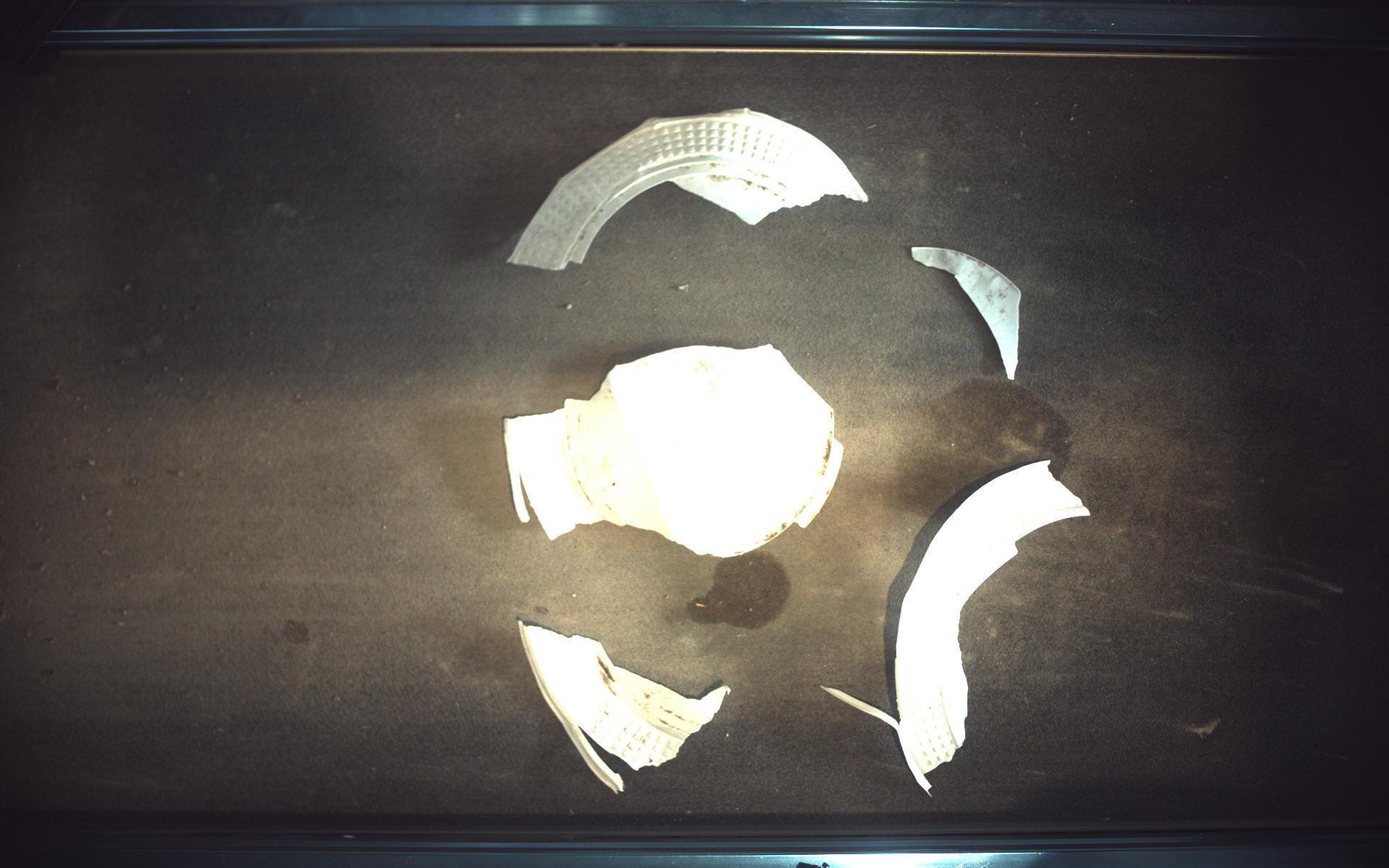general_w: (828, 461, 1092, 793), (505, 344, 845, 558), (510, 107, 870, 270), (519, 621, 731, 793), (913, 246, 1022, 380)
